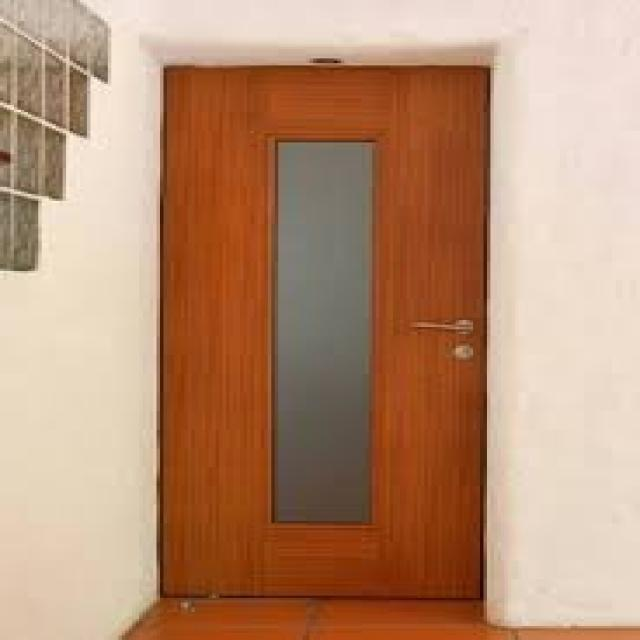door: (160, 63, 490, 600)
